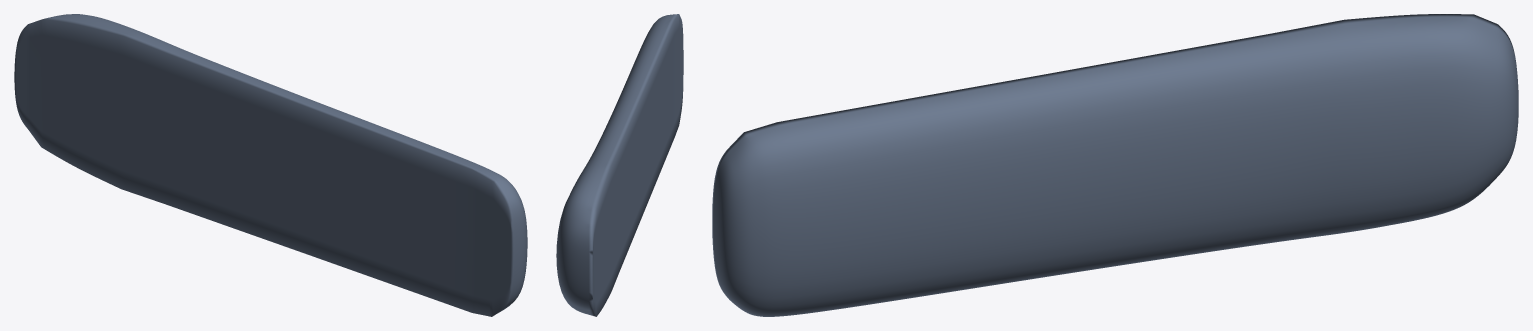
3 views of the same model, side by side, from view 1: azimuth 30°, elevation 25°; view 2: azimuth 150°, elevation 25°; view 3: azimuth 270°, elevation 25° (orthographic). The views are drawn at different scales.
Visible parts, largest first — view 1: Cube.045; view 2: Cube.045; view 3: Cube.045.
Boxes of the visible parts, x1,y1,x2,y2 form: Cube.045: (14,14,527,316); Cube.045: (556,14,683,316); Cube.045: (712,14,1518,316).
Size of the model in its own units: 0.0263 by 0.0177 by 0.0635.
